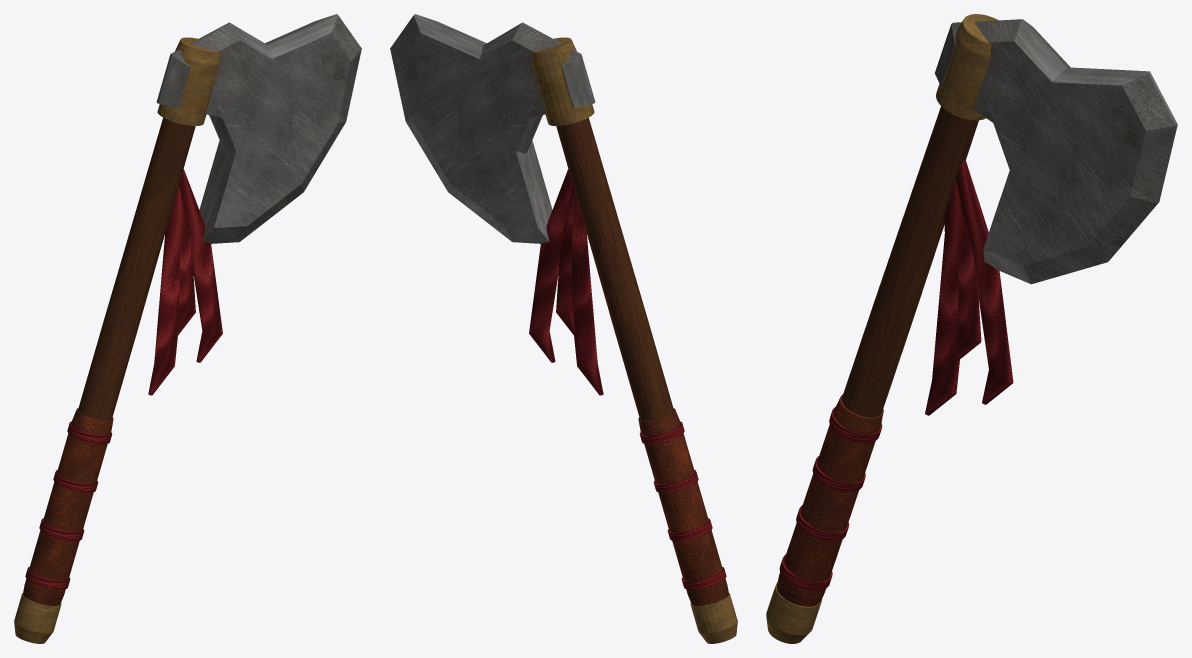
File: war_axe.obj
3 views of the same model, side by side, from view 1: azimuth 30°, elevation 25°; view 2: azimuth 150°, elevation 25°; view 3: azimuth 330°, elevation 25° (orthographic). The views are drawn at different scales.
Parts seen in each view (by area): view 1: head, shaft, grip, red_tassel1, red_tassel2, socket, red_tassel0, end_cap; view 2: head, shaft, grip, red_tassel2, red_tassel1, socket, red_tassel0, end_cap; view 3: head, shaft, grip, red_tassel1, red_tassel2, socket, red_tassel0, end_cap, grip_wrap3, grip_wrap2, grip_wrap1, grip_wrap0.
Boxes of the visible parts, x1,y1,x2,y2 form: head: (156, 14, 361, 243); shaft: (78, 117, 195, 420); grip: (23, 408, 113, 605); red_tassel1: (179, 169, 222, 362); red_tassel2: (148, 196, 180, 395); socket: (157, 37, 220, 125); red_tassel0: (176, 186, 195, 335); end_cap: (14, 593, 61, 643); head: (390, 14, 595, 243); shaft: (556, 117, 673, 420); grip: (638, 408, 728, 605); red_tassel2: (571, 195, 603, 395); red_tassel1: (529, 169, 572, 362); socket: (531, 37, 594, 125); red_tassel0: (556, 184, 575, 335); end_cap: (690, 593, 737, 643); head: (934, 19, 1177, 284); shaft: (841, 106, 978, 417); grip: (776, 394, 883, 606); red_tassel1: (955, 159, 1013, 404); red_tassel2: (925, 189, 959, 415); socket: (936, 14, 998, 120); red_tassel0: (952, 179, 981, 359); end_cap: (766, 582, 822, 643); grip_wrap3: (829, 406, 882, 443); grip_wrap2: (812, 456, 865, 492); grip_wrap1: (796, 505, 849, 541); grip_wrap0: (779, 554, 832, 590).
Size of the model in its own units: 73.21 by 116 by 8.17.
Materials: 5 (5 with a texture image).
